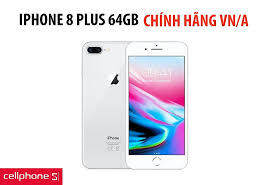iphone: (122, 37, 191, 170)
iphone8: (122, 38, 191, 171)
